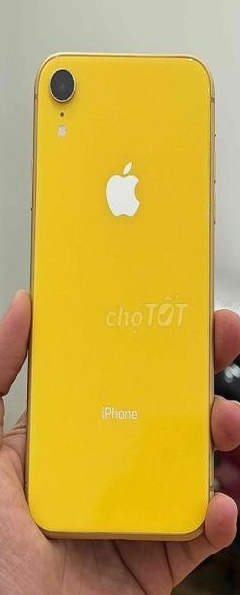scratch: (54, 54, 60, 62), (71, 77, 76, 82), (58, 67, 63, 72), (52, 71, 57, 75)
